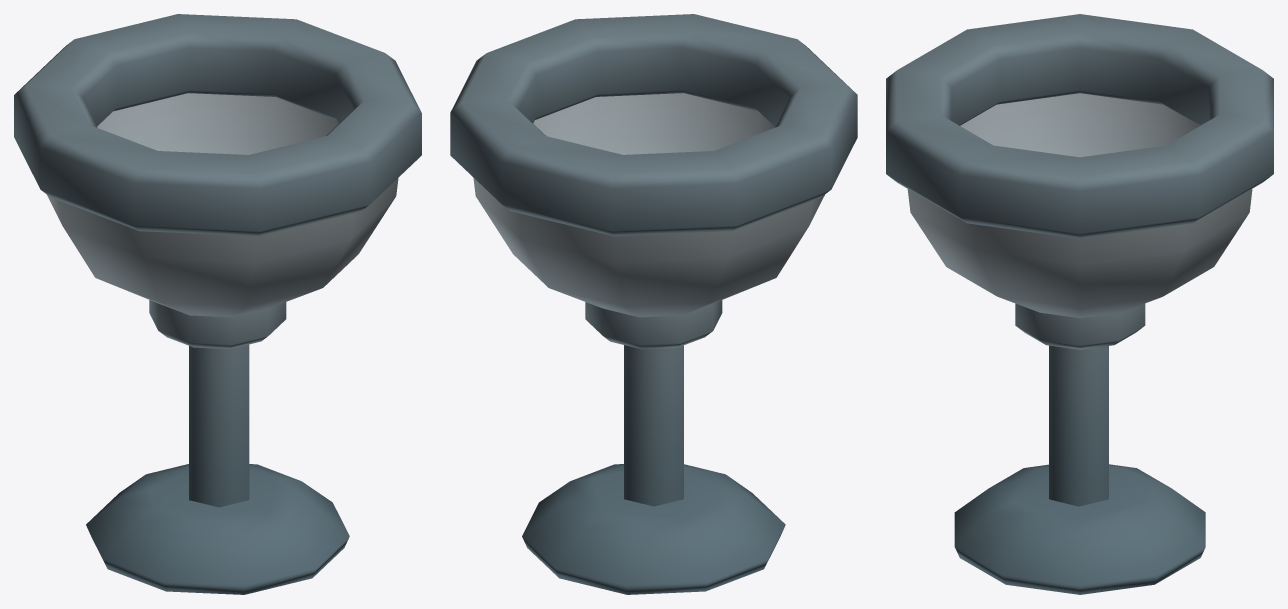
The model's file is Cup_002.glb.
3 renders of one model, left to right at view 1: azimuth 30°, elevation 25°; view 2: azimuth 150°, elevation 25°; view 3: azimuth 270°, elevation 25°, orthographic.
Parts seen in each view (by area): view 1: Cup_002; view 2: Cup_002; view 3: Cup_002.
Part boxes in pixels (x1,y1,x2,y2): Cup_002: (14, 14, 421, 594); Cup_002: (450, 14, 857, 594); Cup_002: (886, 14, 1273, 594).
Size of the model in its own units: 0.4195 by 0.5065 by 0.3989.
Materials: 1 (1 with a texture image).
